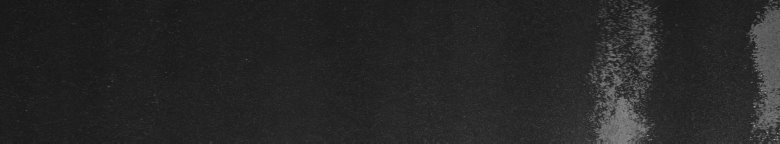kb: (589, 4, 662, 136)
